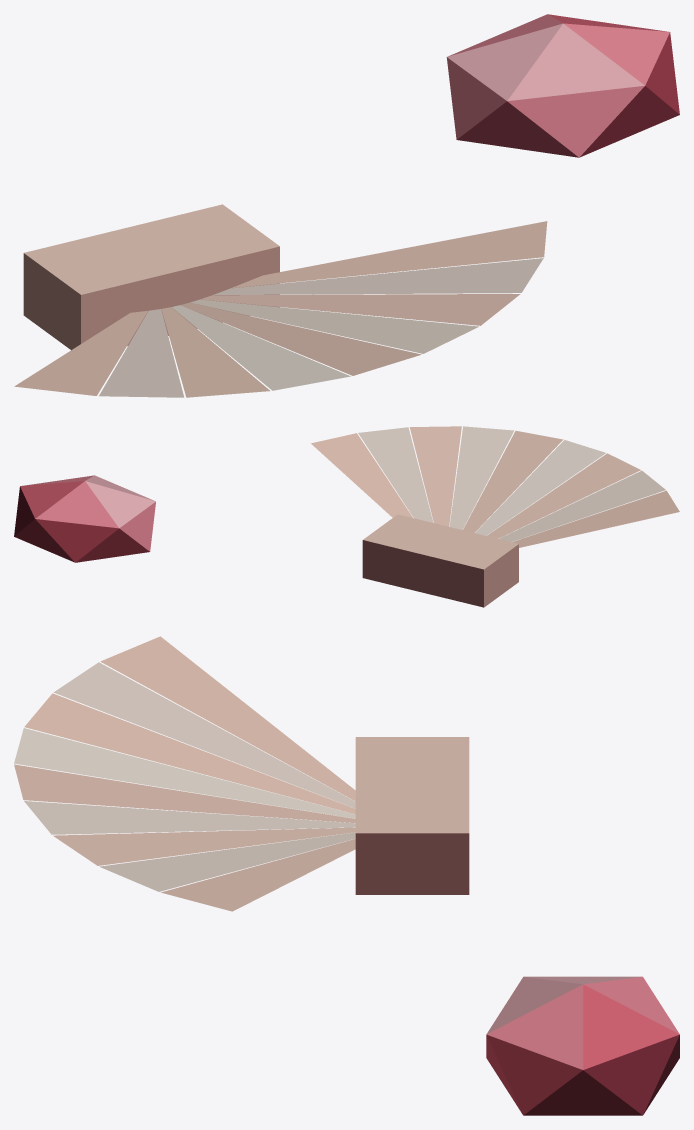
Rendered from seashell.glb.
The picture shows the model from 3 angles, top to bottom: view 1: azimuth 30°, elevation 25°; view 2: azimuth 150°, elevation 25°; view 3: azimuth 270°, elevation 25°; orthographic projection. The views are drawn at different scales.
Parts seen in each view (by area): view 1: seashell; view 2: seashell; view 3: seashell.
Part boxes in pixels (x1,y1,x2,y2): seashell: [14, 14, 679, 397]; seashell: [14, 426, 679, 607]; seashell: [14, 636, 679, 1115].
Size of the model in its own units: 0.4368 by 0.06 by 0.2925.
